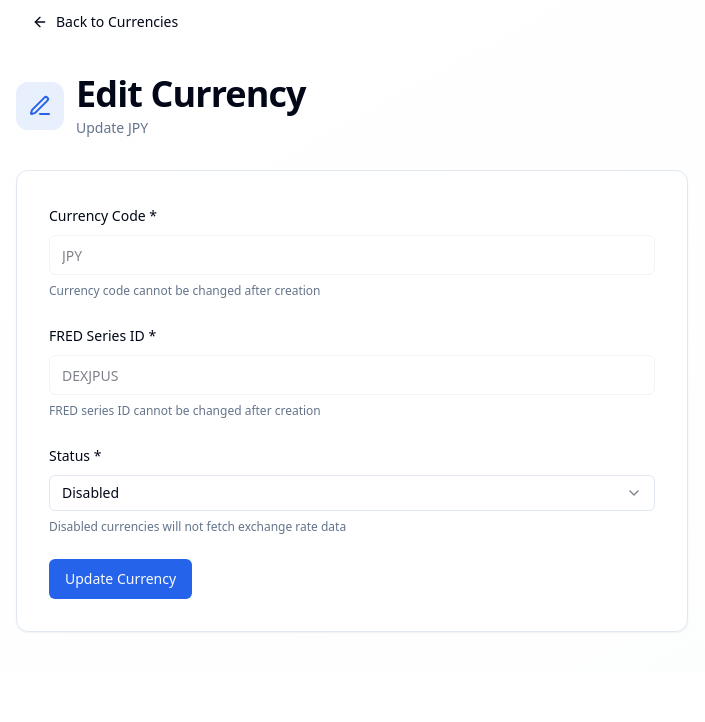
Scenario: CurrencyEditPage › renders an API error banner when update fails
Expected: the field showing "JPY" is disabled, [49,235,655,275]
Click the button named "Status". click: click(91, 492)
box: [49,475,655,511]
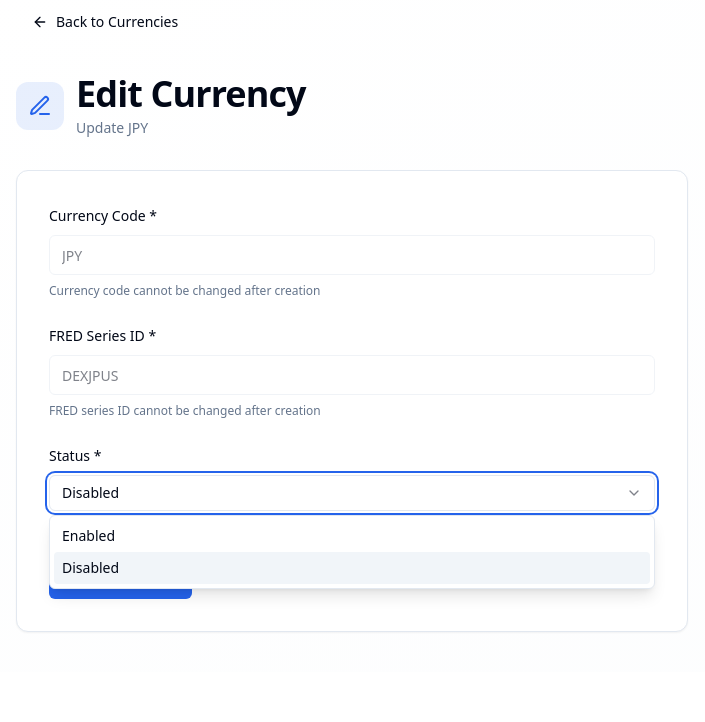
Click the button "Enabled". click: click(89, 536)
box: [54,520,650,552]
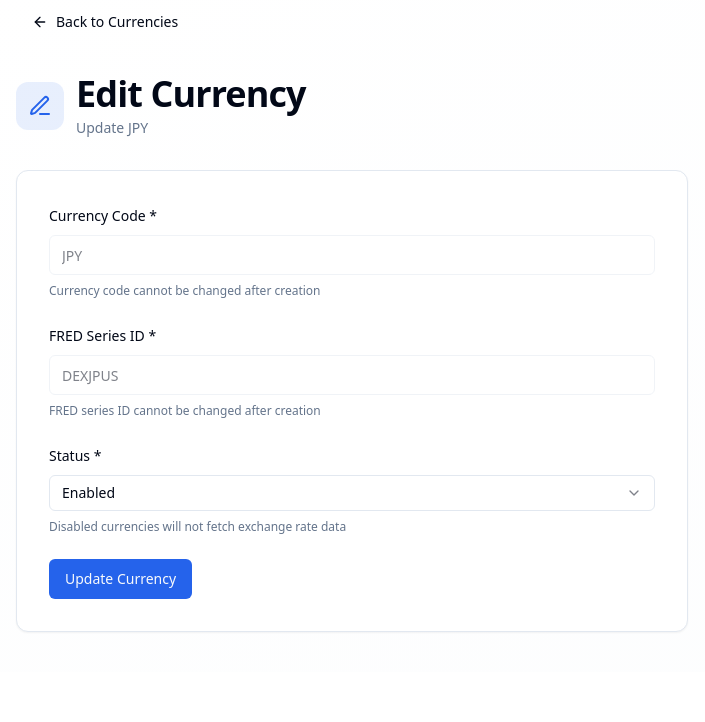
Click the button "Update Currency". click: click(121, 579)
box: [49,559,192,599]
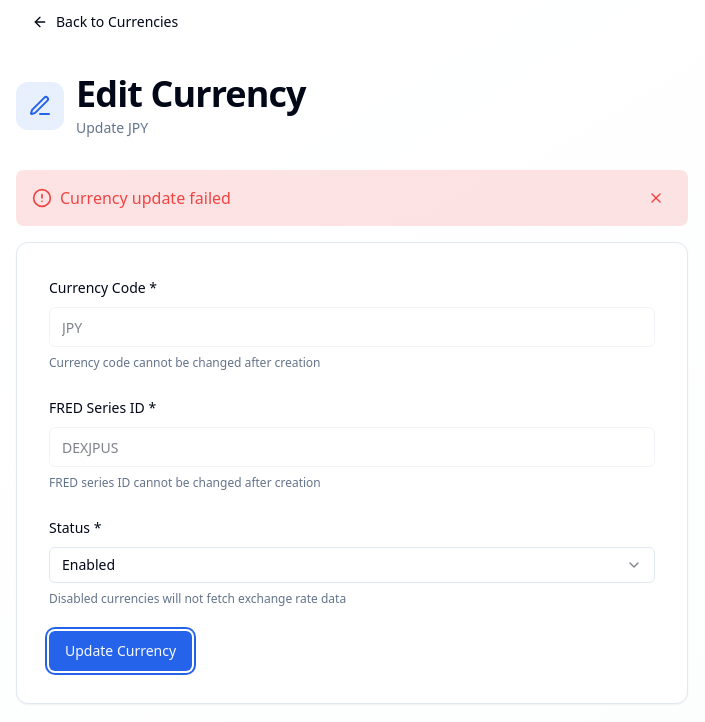
Expected: the heading "Edit Currency" is shown, [76,74,306,114]
Now the text "Currency update failed" is shown, box [60,186,231,210]
